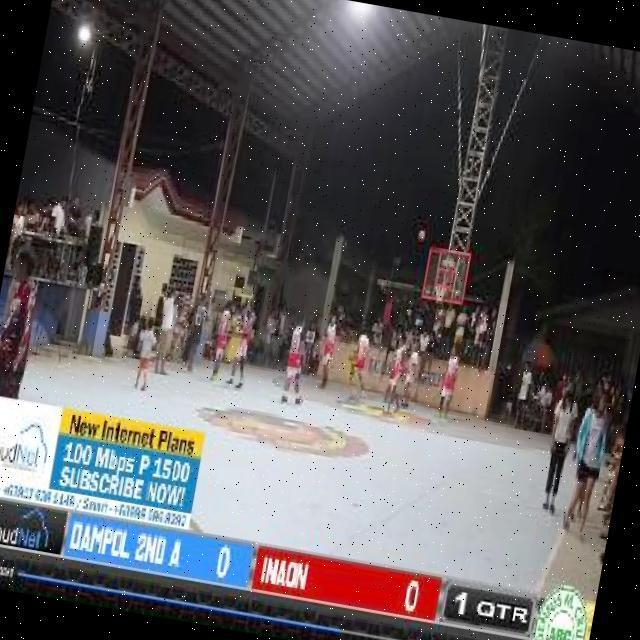ball: (416, 230, 425, 242)
hoop: (431, 283, 449, 291)
